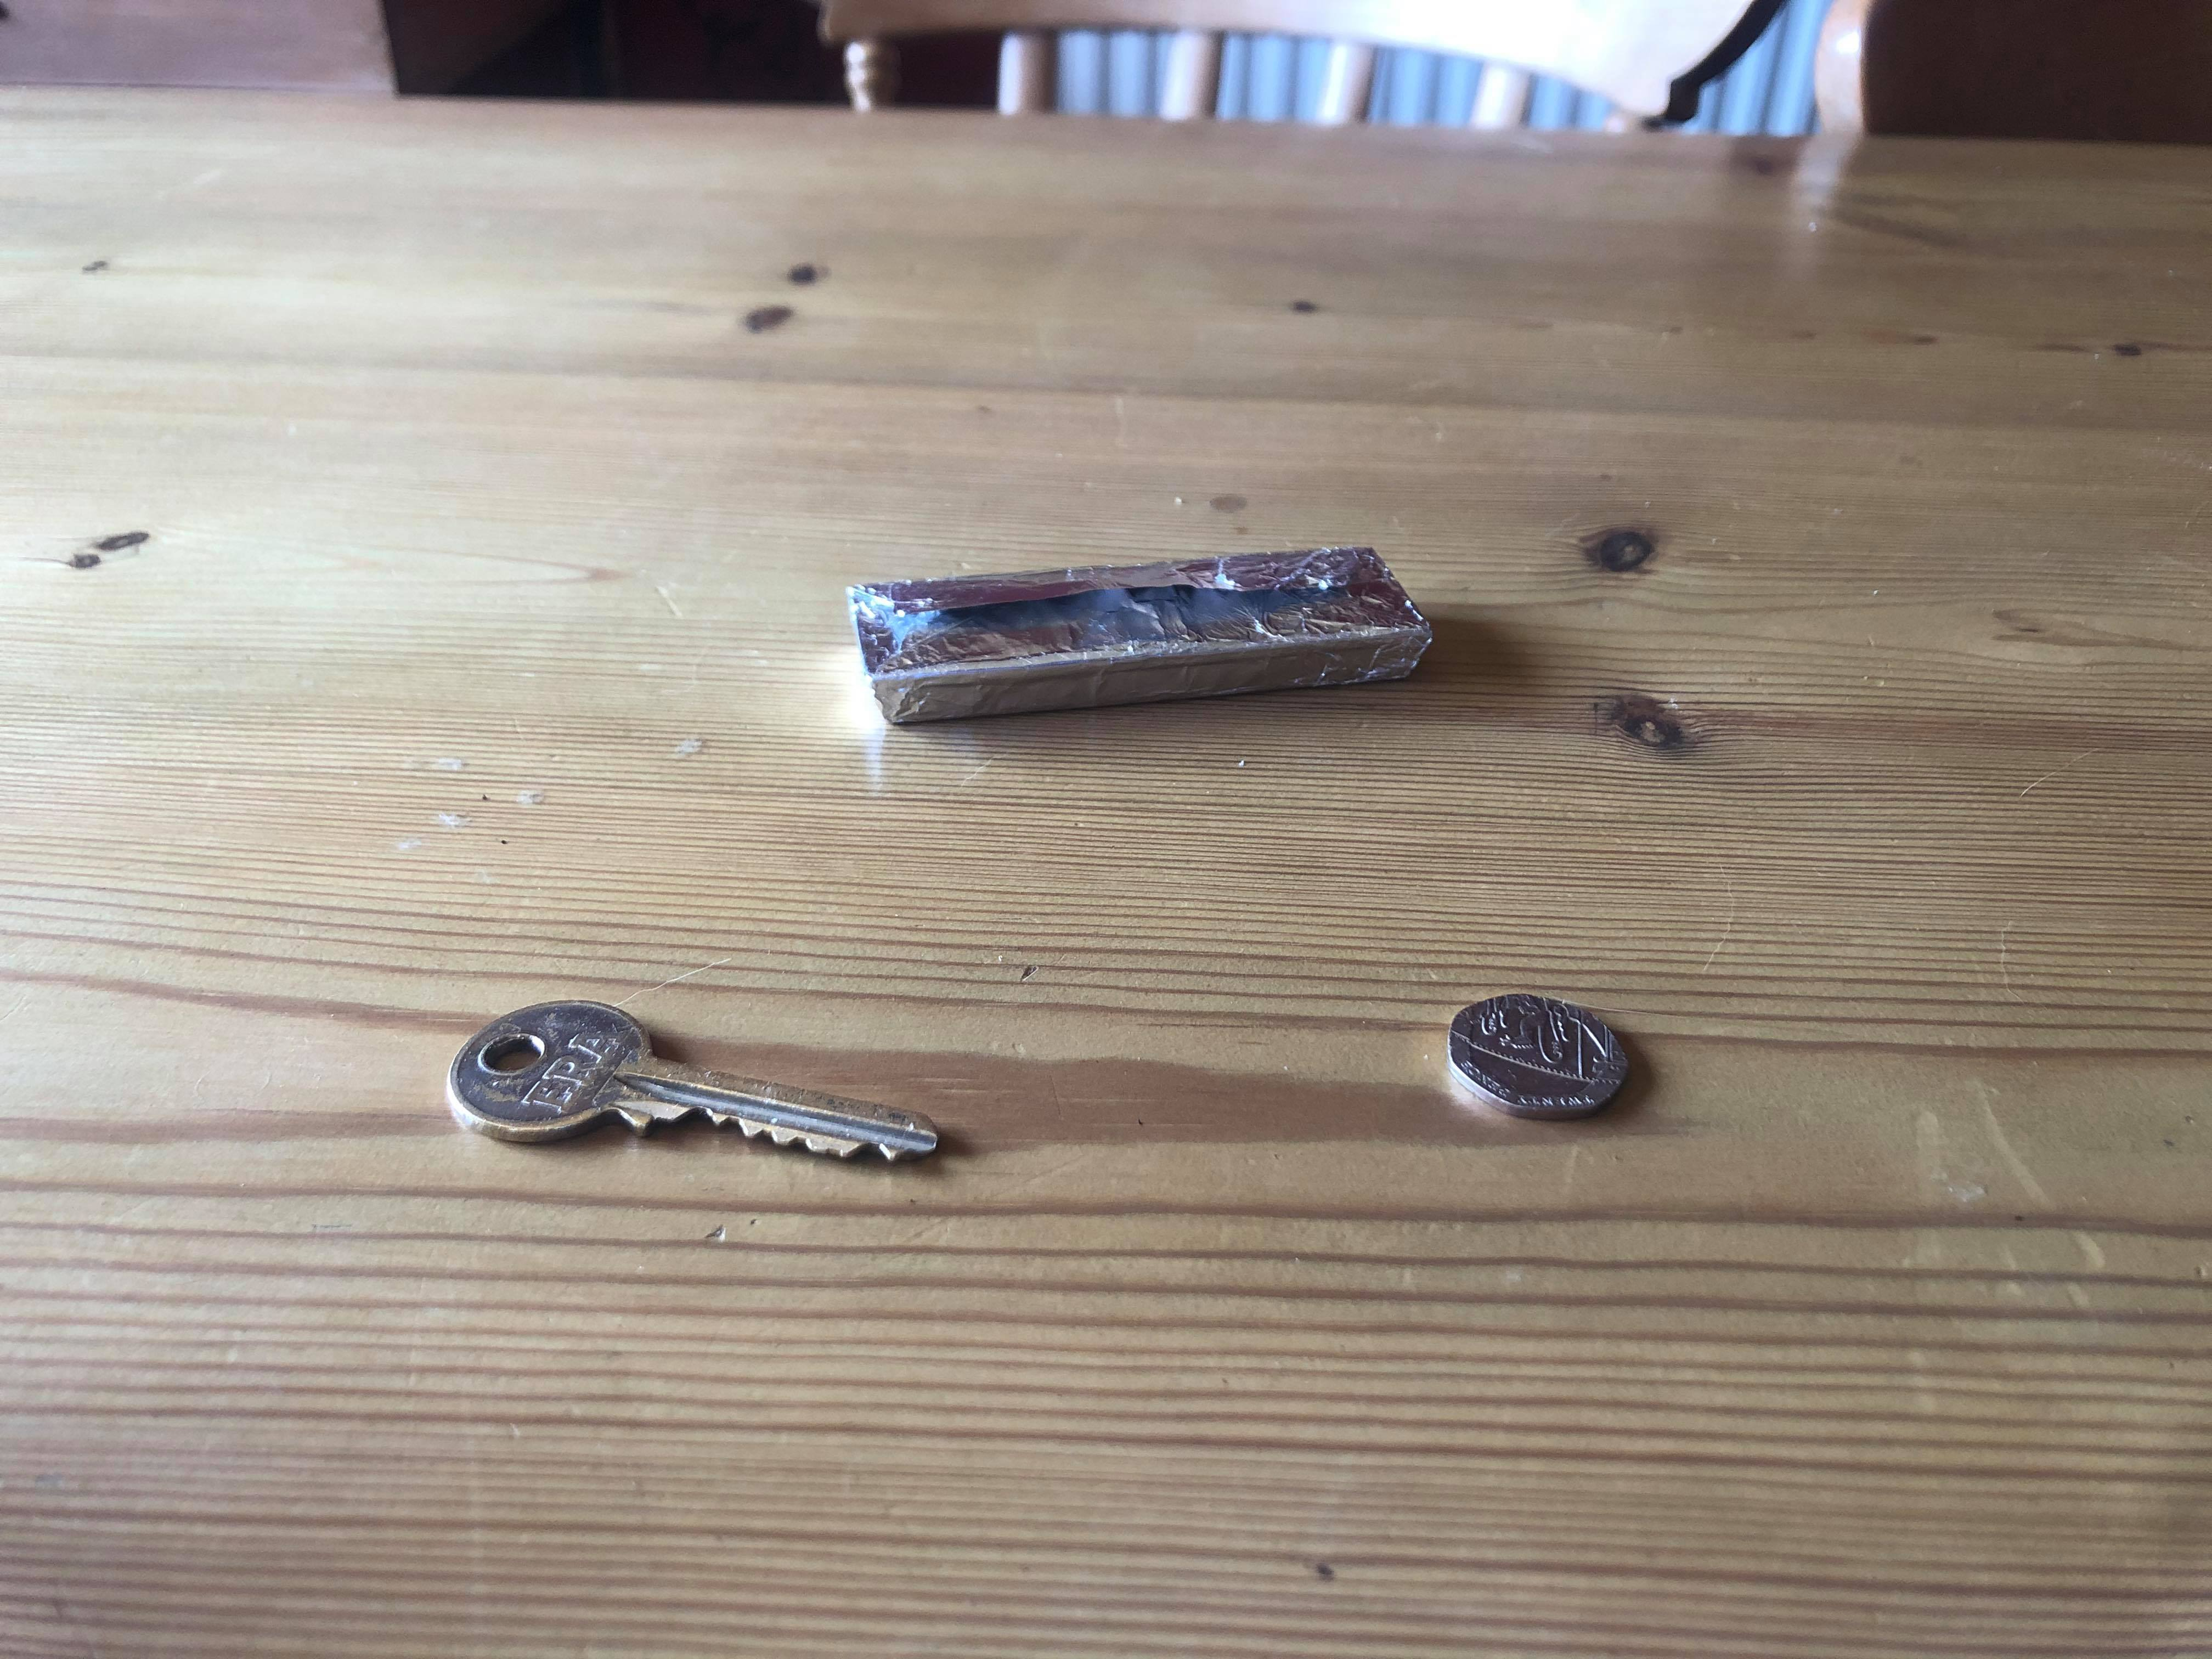Coin: (1435, 988, 1629, 1122)
Foil: (838, 540, 1440, 725)
Key: (418, 992, 948, 1175)
